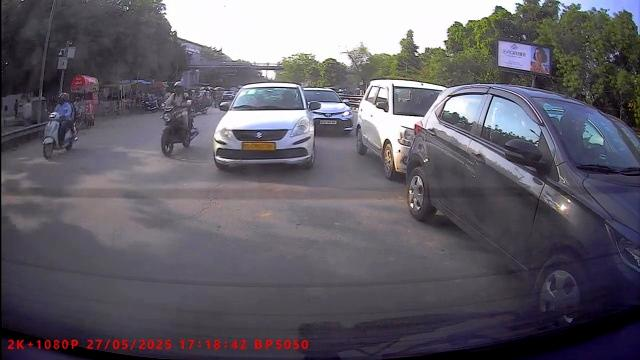motorcycle_with_helmet: (159, 80, 199, 157), (40, 91, 79, 162)
